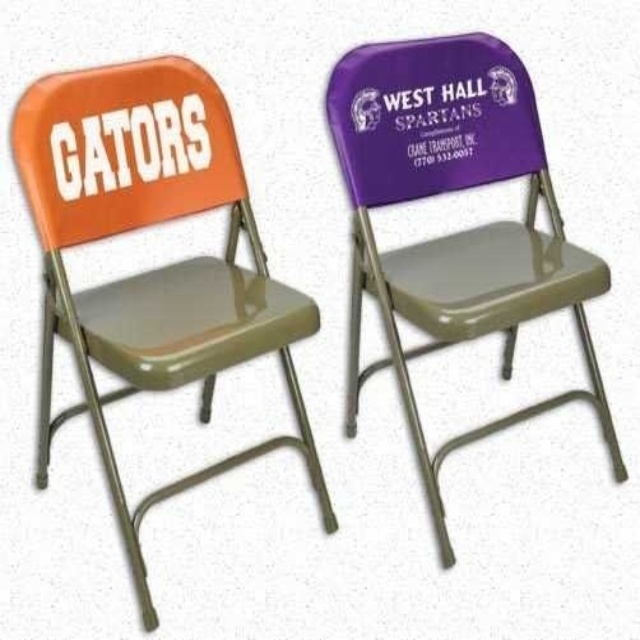obstacle: (11, 55, 337, 629), (326, 32, 626, 566)
